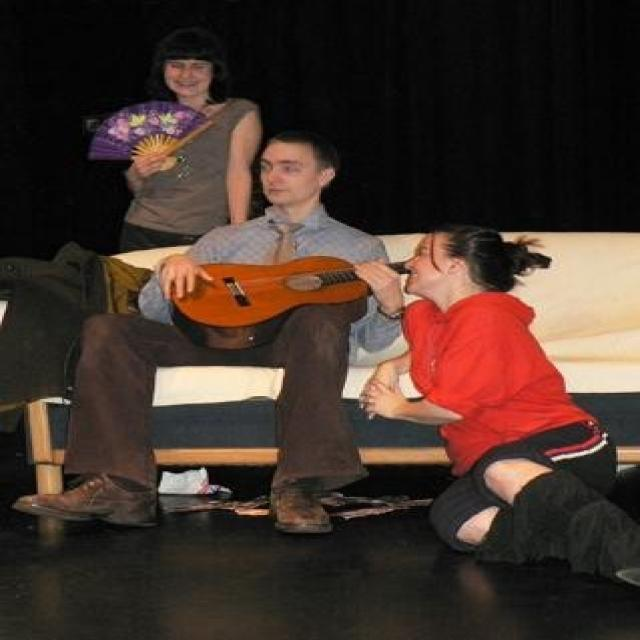guitar: (172, 254, 502, 354)
